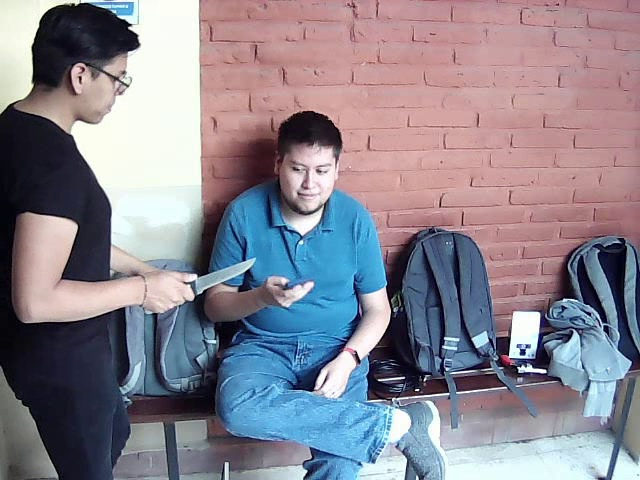cuchillo: (163, 245, 269, 300)
